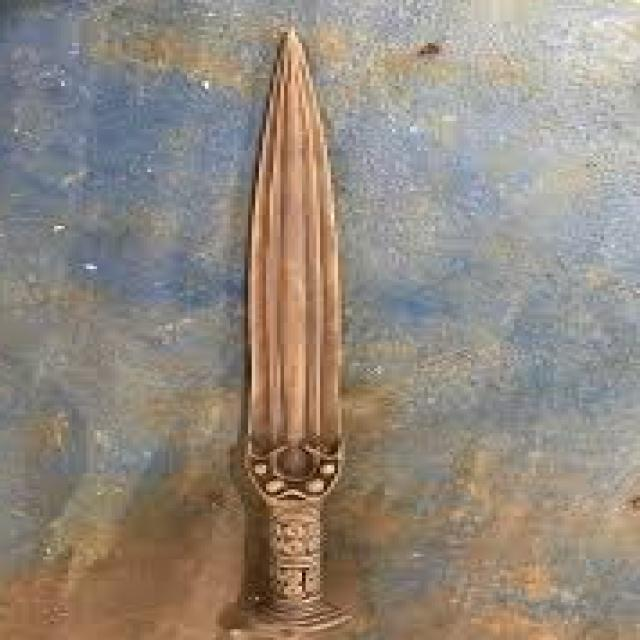Gun: (201, 19, 385, 640)
